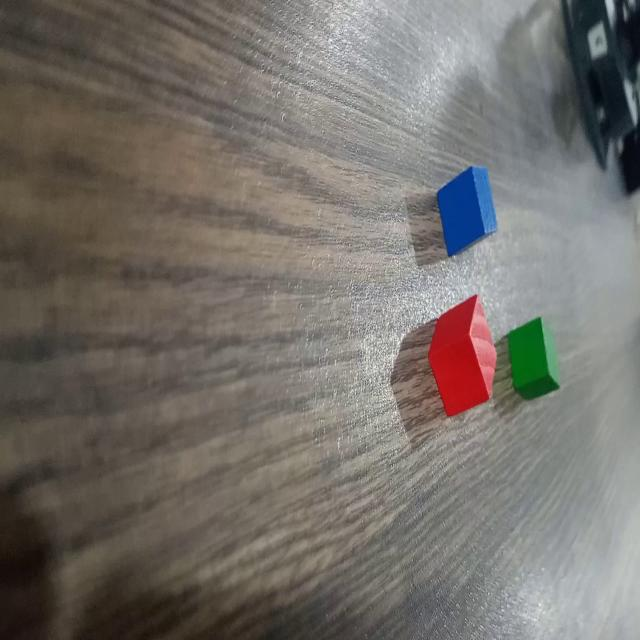cube: (425, 290, 500, 418), (435, 158, 497, 259), (506, 312, 563, 404)
